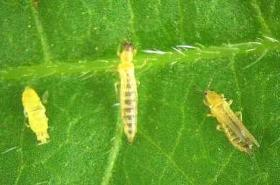Thrips: (201, 82, 265, 161), (112, 35, 145, 143), (19, 84, 58, 146)
